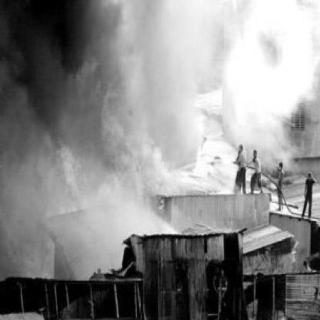Fire: (37, 58, 181, 210)
Smoke: (2, 0, 134, 64)
